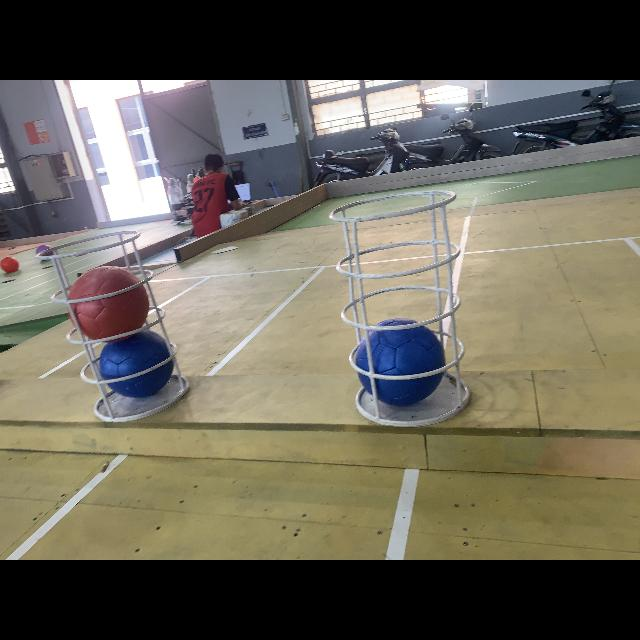B: (356, 317, 446, 407), (98, 333, 176, 399)
R: (70, 267, 150, 341)
